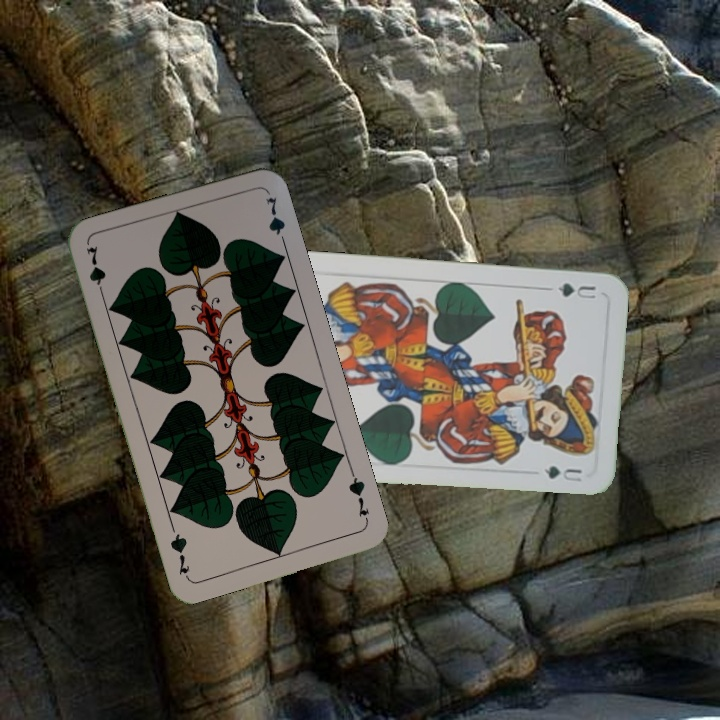G7: (344, 467, 372, 525), (81, 242, 108, 301)
GU: (552, 279, 598, 302)
